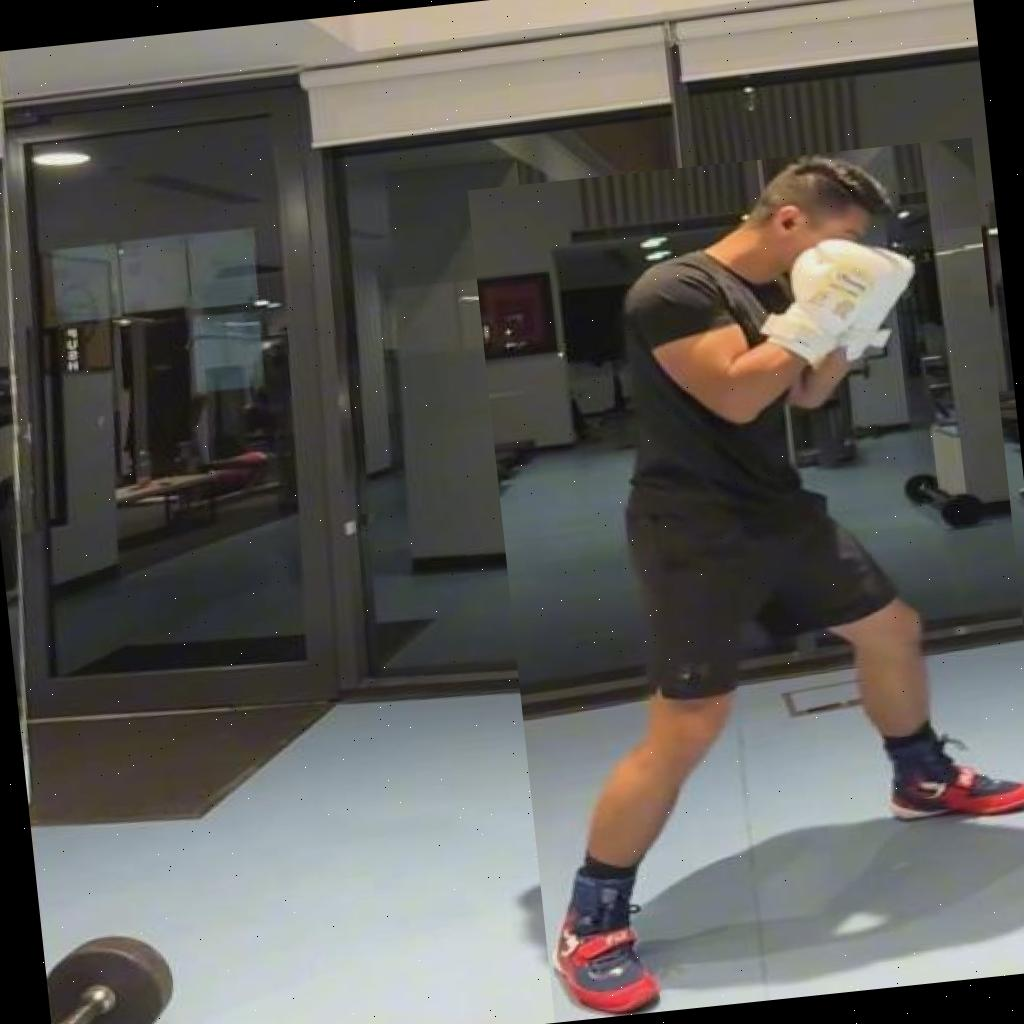no punch: (467, 137, 1024, 1022)
